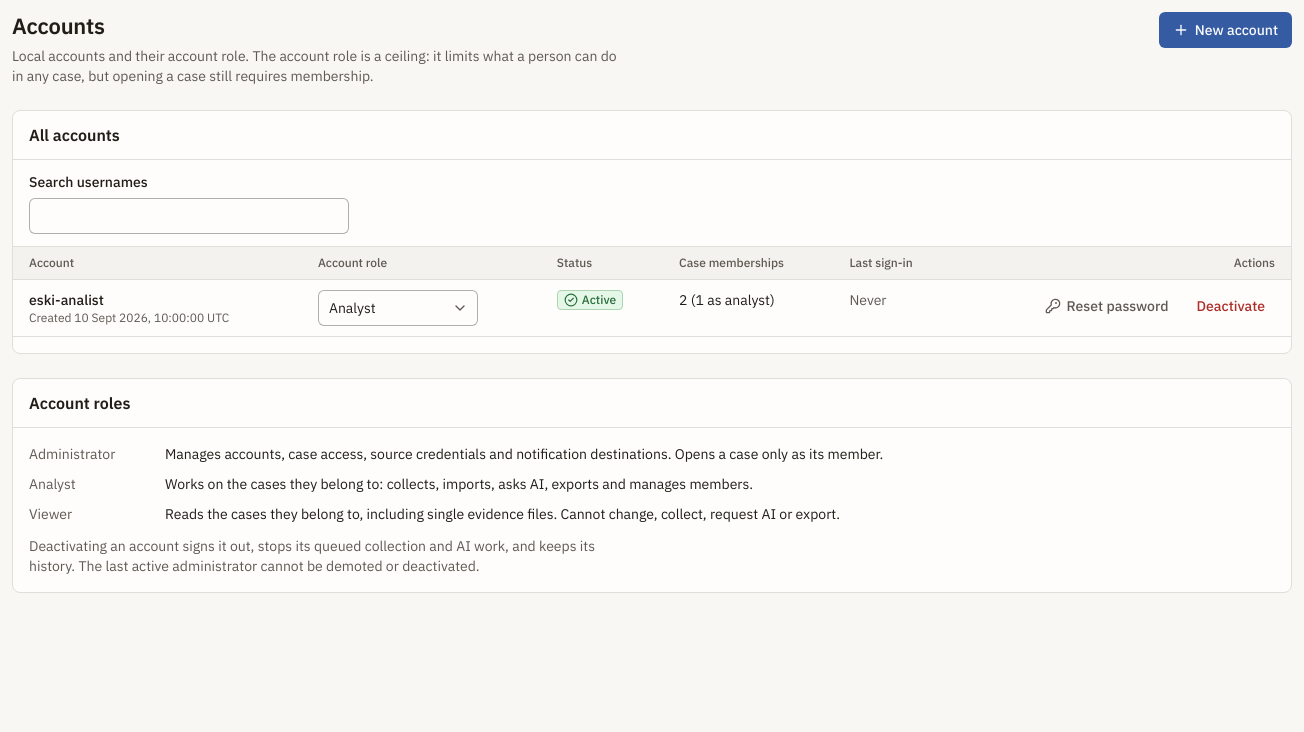
Scenario: AccountsView › warns when a role change leaves cases without an active analyst
Step 1. Select "Viewer" in the dropdown named "Account role of eski-analist" → (398, 308), box 318,290 -> 478,326
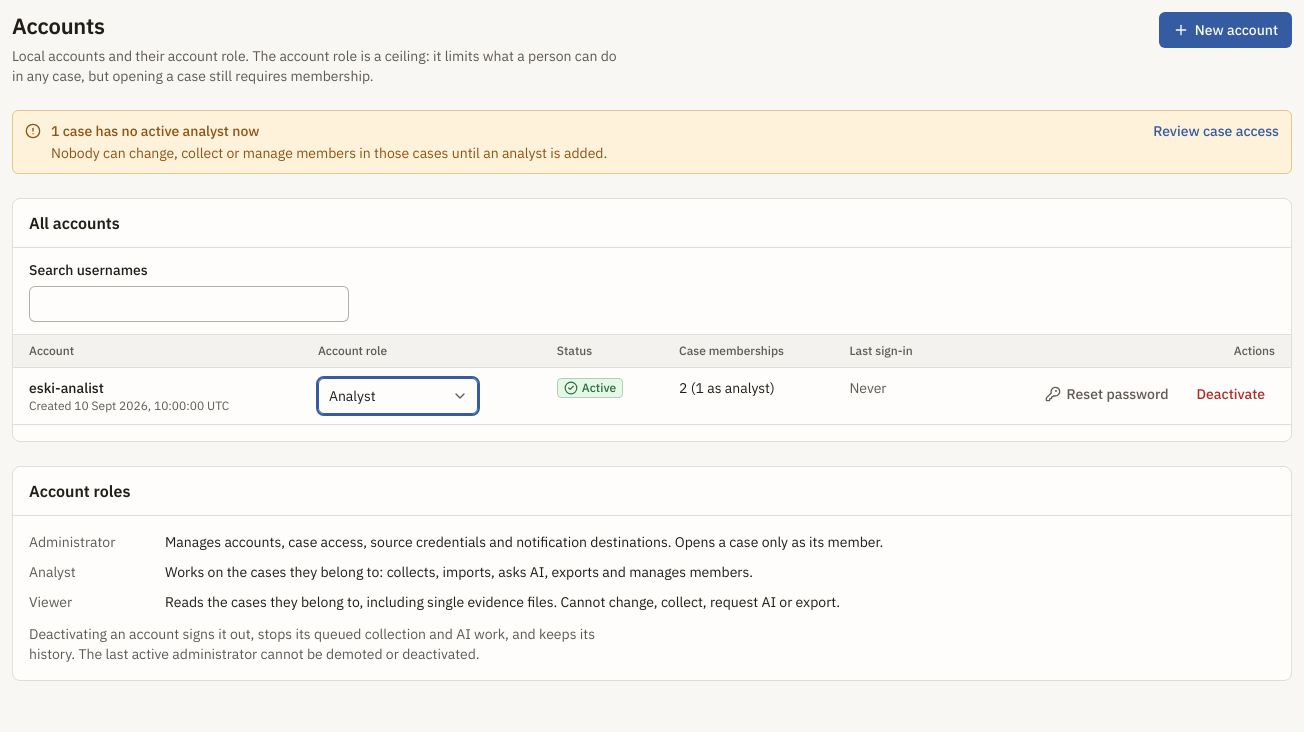
Result: the text "1 case has no active analyst now" is shown at 51,122 -> 259,140
